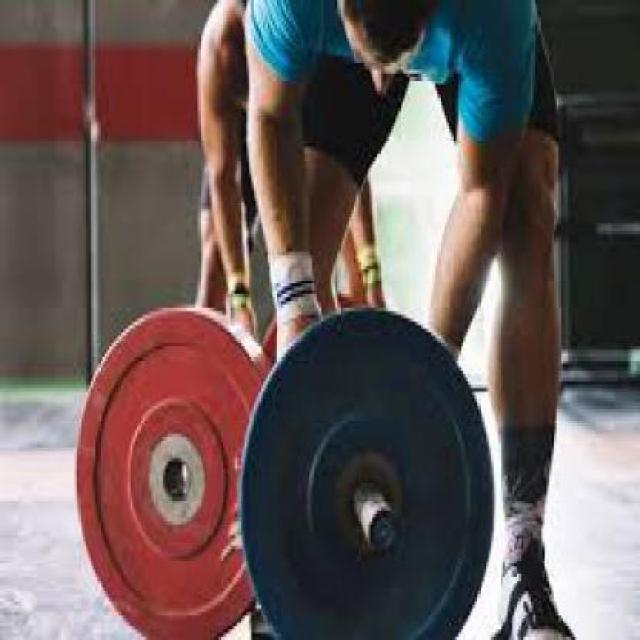barbell: (233, 300, 500, 640)
